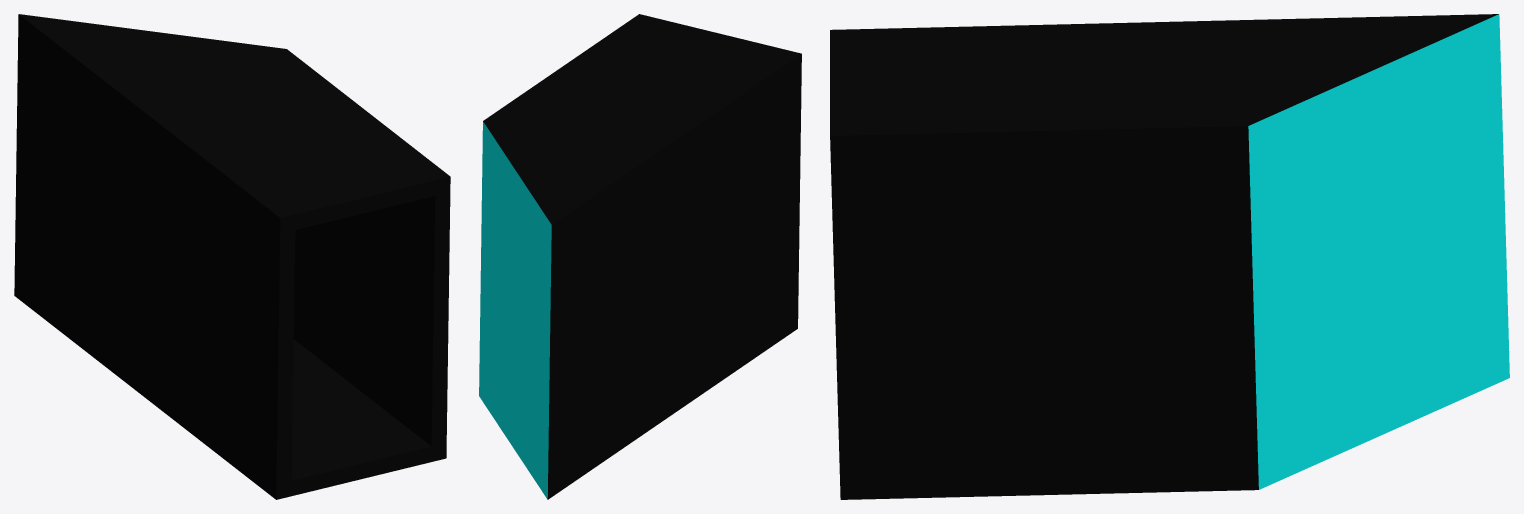
The picture shows the model from 3 angles, left to right: view 1: azimuth 30°, elevation 25°; view 2: azimuth 150°, elevation 25°; view 3: azimuth 270°, elevation 25°; orthographic projection. The views are drawn at different scales.
Parts seen in each view (by area): view 1: node; view 2: node; view 3: node.
Part boxes in pixels (x1=…): node: x1=14, y1=14, x2=450, y2=499; node: x1=479, y1=14, x2=801, y2=499; node: x1=830, y1=14, x2=1509, y2=499.
Size of the model in its own units: 0.225 by 0.6092 by 0.3756.
